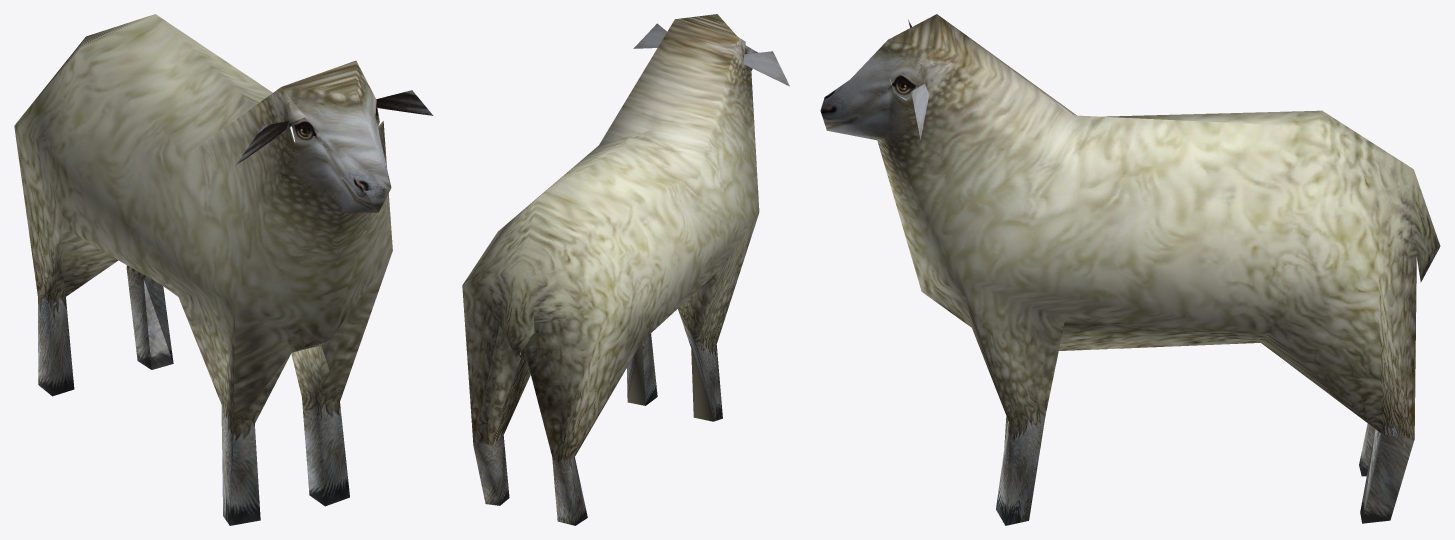
The model's file is sheep-stand1-cbj_LOD02.gltf.
The picture shows the model from 3 angles, left to right: view 1: azimuth 30°, elevation 25°; view 2: azimuth 150°, elevation 25°; view 3: azimuth 270°, elevation 25°; orthographic projection. The views are drawn at different scales.
Visible parts, largest first — view 1: node2.002; view 2: node2.002; view 3: node2.002.
Boxes of the visible parts, bbox=[...] form: node2.002: bbox=[14, 14, 433, 525]; node2.002: bbox=[462, 14, 789, 525]; node2.002: bbox=[820, 14, 1440, 525].
Size of the model in its own units: 0.5789 by 1.22 by 1.46.
